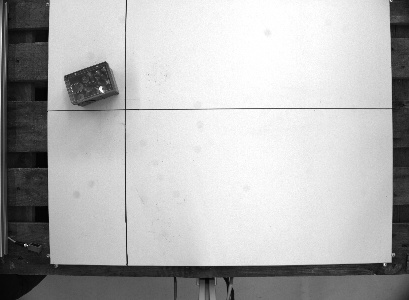kltxs: (61, 59, 122, 109)
